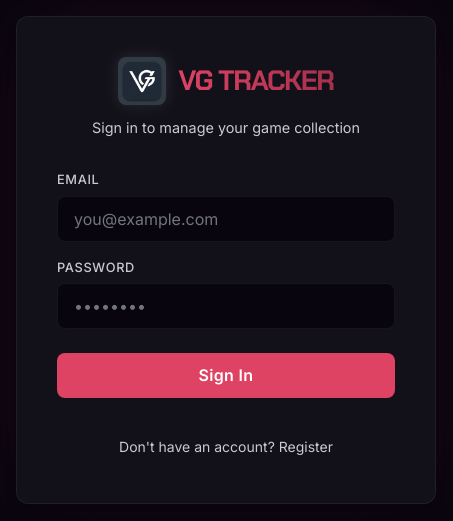
Test: LoginPage › shows loading state during submission
Type "test@example.com" into the field labelled "Email".
click(226, 218); type("test@example.com")  # box [57,196,395,242]
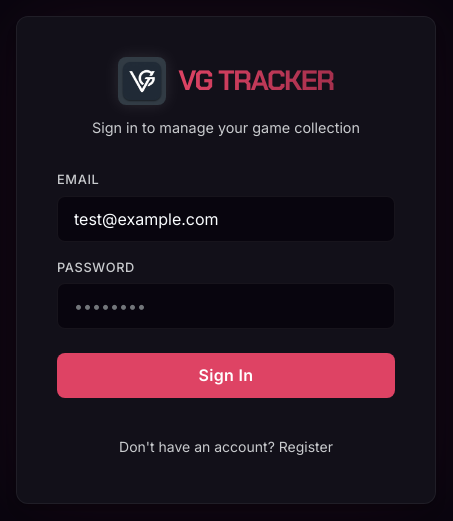
Type "password" into the password field labelled "Password".
click(226, 306); type("password")  # box [57,283,395,329]
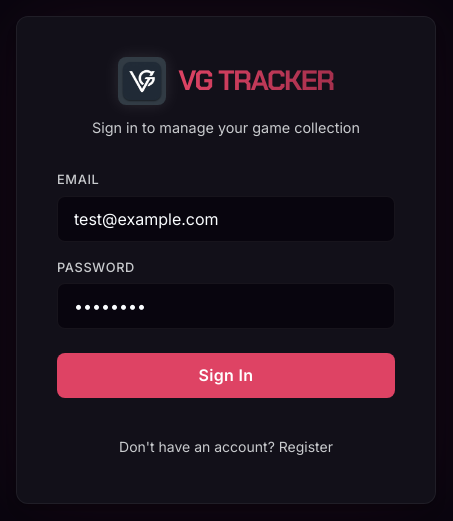
Click the button "Sign In".
click(226, 376)  # box [57,353,395,398]
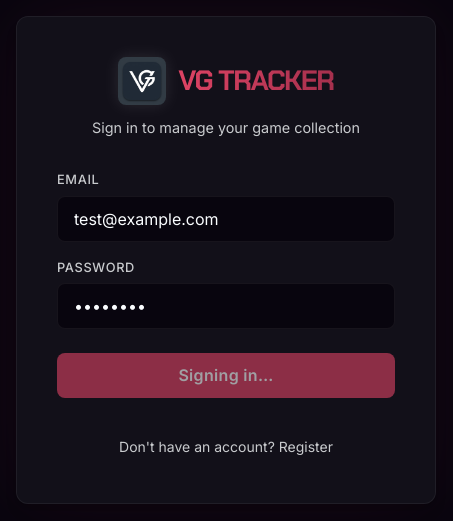
Now the button "Signing in…" is disabled, box [57,353,395,398]
